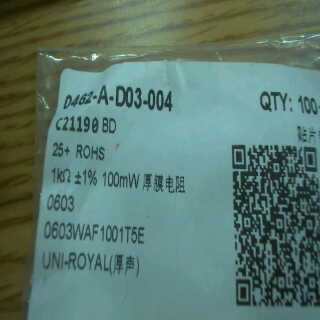1kR: (50, 164, 74, 186)
